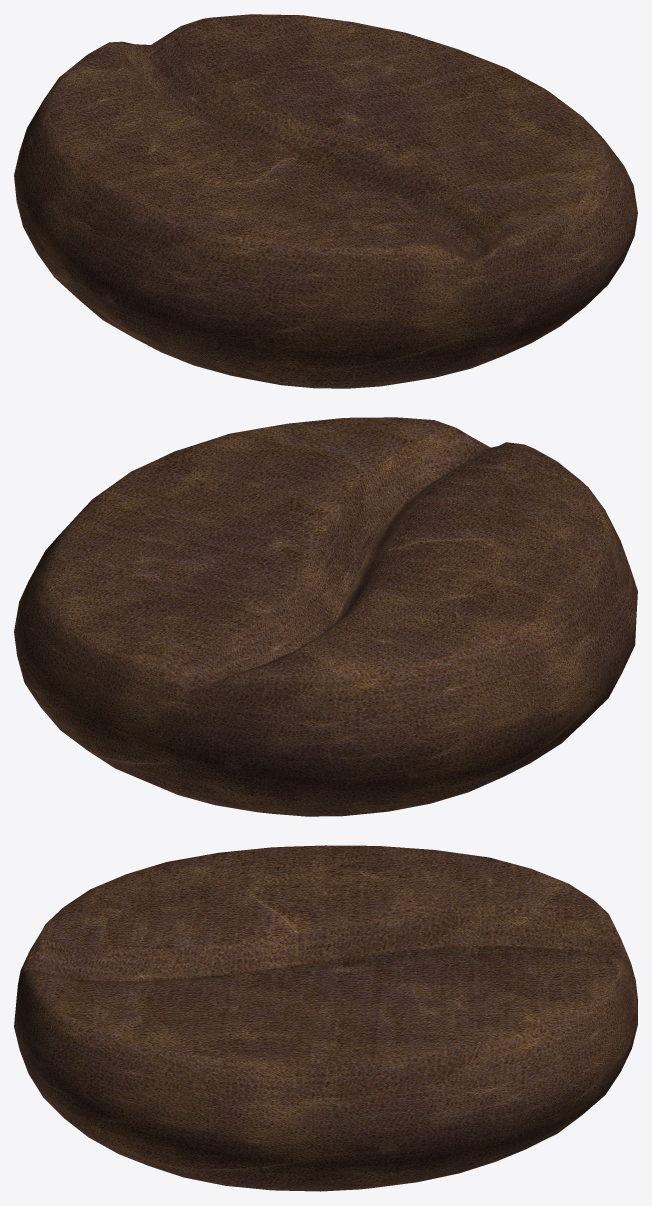
The model's file is coffee_bean.glb.
The picture shows the model from 3 angles, top to bottom: view 1: azimuth 30°, elevation 25°; view 2: azimuth 150°, elevation 25°; view 3: azimuth 270°, elevation 25°; orthographic projection. The views are drawn at different scales.
Visible parts, largest first — view 1: Coffee Bean001; view 2: Coffee Bean001; view 3: Coffee Bean001.
Part boxes in pixels (x1,y1,x2,y2): Coffee Bean001: (14,14,637,388); Coffee Bean001: (14,417,637,816); Coffee Bean001: (14,845,637,1191).
Size of the model in its own units: 0.00246 by 0.000936 by 0.00268.
1 material, 1 textured.
